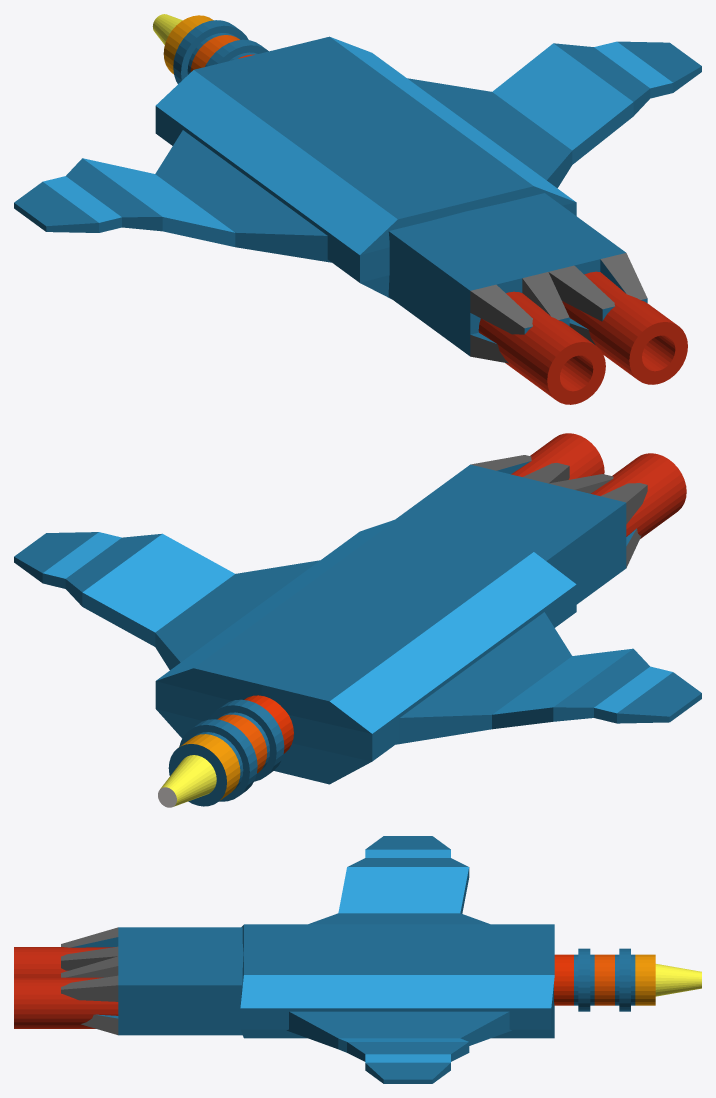
The model's file is player.glb.
The picture shows the model from 3 angles, top to bottom: view 1: azimuth 30°, elevation 25°; view 2: azimuth 150°, elevation 25°; view 3: azimuth 270°, elevation 25°; orthographic projection. The views are drawn at different scales.
Visible parts, largest first — view 1: Body, Wings, Engine, Jets, Weapon; view 2: Body, Wings, Engine, Weapon, Jets; view 3: Body, Wings, Engine, Weapon, Jets.
Boxes of the visible parts, left/top/right/bottom form: Body: left=155, top=36, right=576, bottom=298; Wings: left=14, top=41, right=701, bottom=262; Engine: left=388, top=193, right=647, bottom=363; Jets: left=478, top=271, right=687, bottom=404; Weapon: left=152, top=14, right=268, bottom=83; Body: left=155, top=518, right=576, bottom=784; Wings: left=14, top=532, right=701, bottom=744; Engine: left=396, top=455, right=647, bottom=604; Weapon: left=158, top=695, right=293, bottom=807; Jets: left=511, top=433, right=686, bottom=538; Body: left=240, top=924, right=554, bottom=1038; Wings: left=286, top=836, right=511, bottom=1083; Engine: left=61, top=927, right=243, bottom=1035; Weapon: left=554, top=948, right=701, bottom=1011; Jets: left=14, top=947, right=118, bottom=1028.
Size of the model in its own units: 5.25 by 0.636 by 6.27.
Materials: 2 (2 with a texture image).
